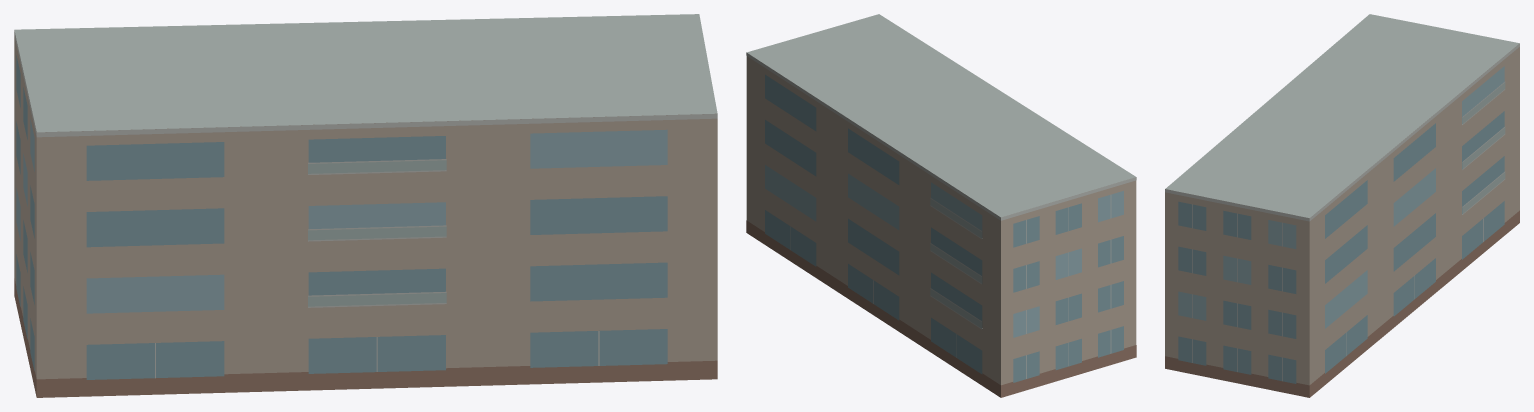
The model's file is survey-upis-32711814.glb.
The picture shows the model from 3 angles, left to right: view 1: azimuth 30°, elevation 25°; view 2: azimuth 150°, elevation 25°; view 3: azimuth 270°, elevation 25°; orthographic projection. The views are drawn at different scales.
Visible parts, largest first — view 1: survey-upis-32711814.tmp; view 2: survey-upis-32711814.tmp; view 3: survey-upis-32711814.tmp.
Part boxes in pixels (box(x1,y1,x2,y2)): survey-upis-32711814.tmp: box(14, 14, 717, 397); survey-upis-32711814.tmp: box(746, 14, 1136, 397); survey-upis-32711814.tmp: box(1165, 14, 1519, 397).
Size of the model in its own units: 31.92 by 13.1 by 23.44.
